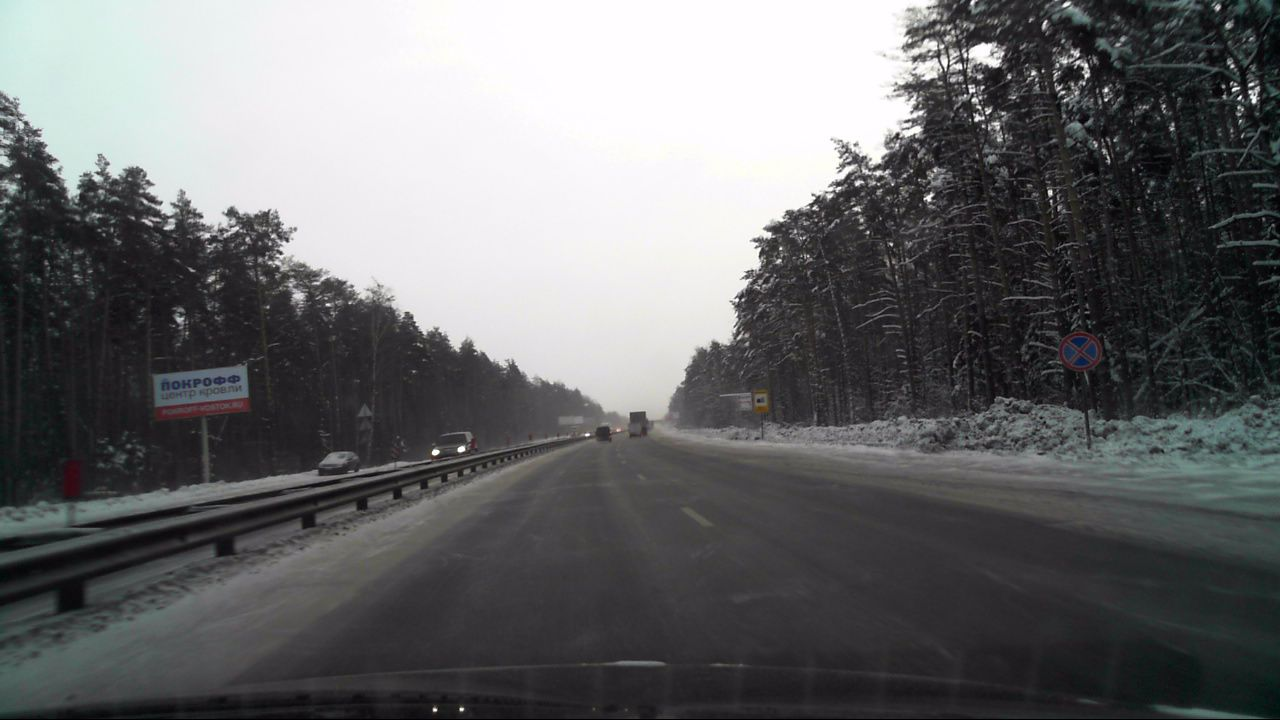No Parking: (1058, 329, 1100, 373)
